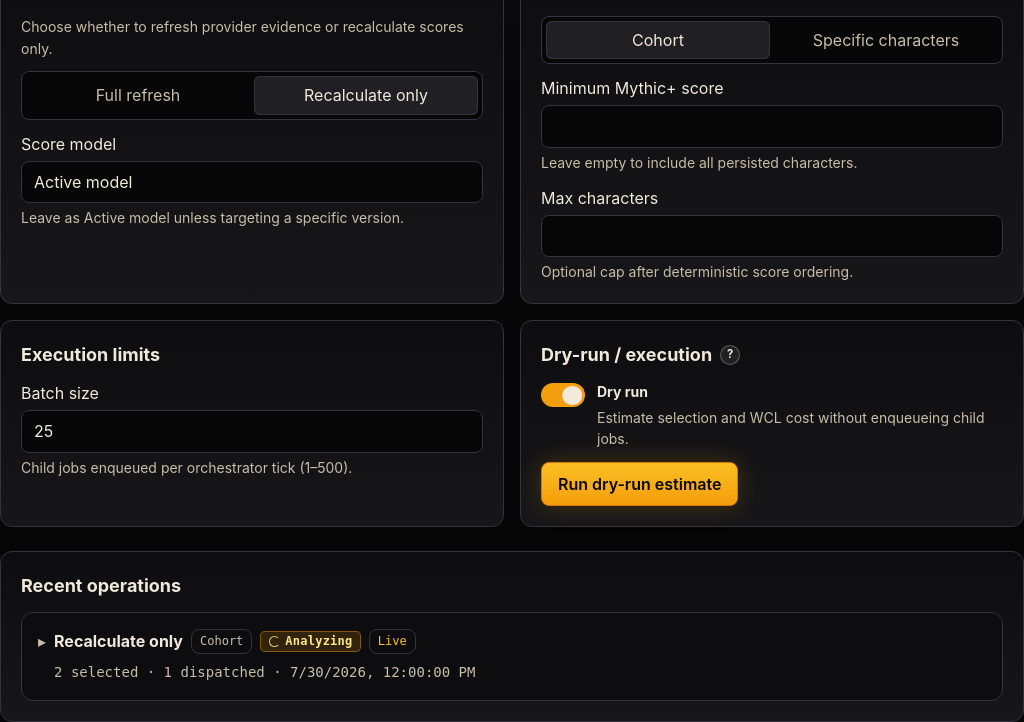
Test: AdminBulkProcessingPage › keeps operation cards collapsed by default and loads detail on expand
This screenshot has width=1024, height=722.
(page scrolled)
Click the button with test id "bulk-op-summary" at x=119, y=641, box [22, 613, 1002, 700]
(page scrolled)
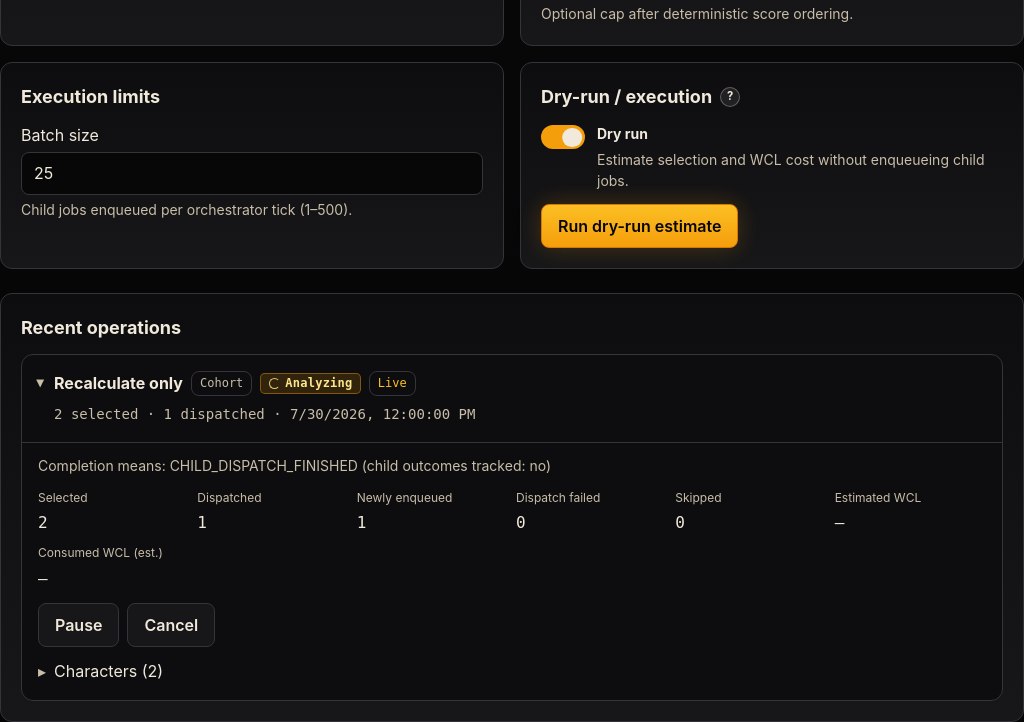
Result: the element with test id "bulk-operation-detail" is shown at [22, 442, 1002, 700]
Result: the text with test id "bulk-completion-semantics" shows "CHILD_DISPATCH_FINISHED" at [38, 457, 551, 474]
Result: the button with test id "bulk-pause" is shown at [38, 603, 119, 647]
